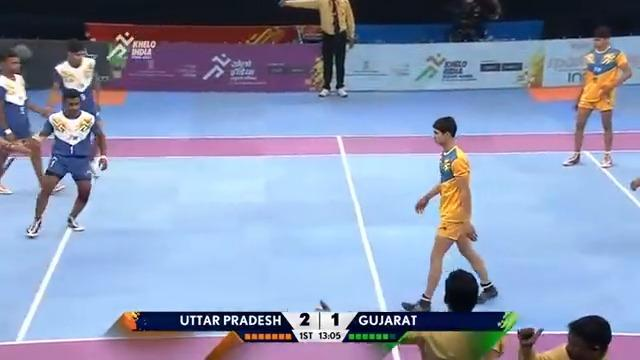Player: (25, 87, 108, 237), (561, 24, 632, 168), (0, 43, 65, 195), (46, 38, 107, 181), (516, 314, 612, 359), (105, 30, 134, 78)
Raider: (399, 116, 497, 312)
referee: (277, 0, 357, 98)
